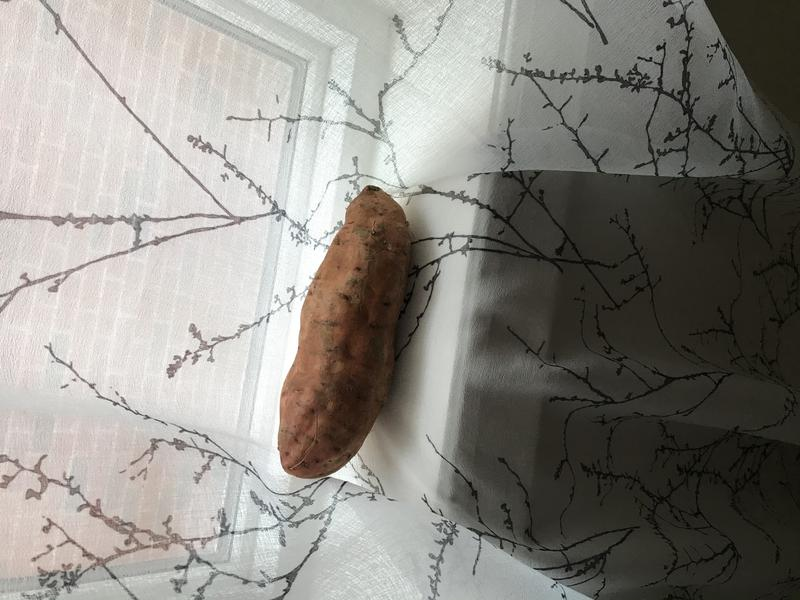sweet_potato: (273, 172, 419, 496)
